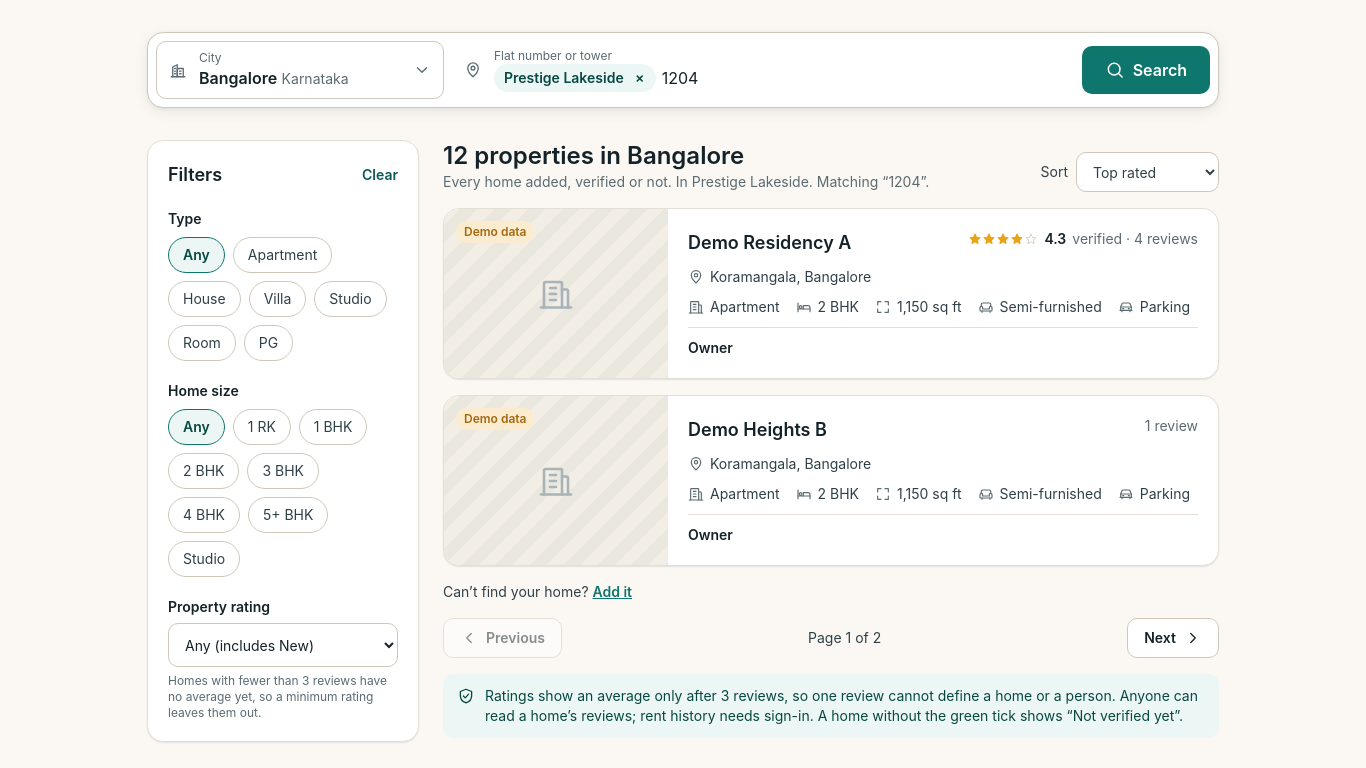
it: SearchPage › drops the picked society when the cities change
The image size is (1366, 768).
Expected: the element with test id "society-chip" is shown, 494,64 -> 656,92
Click the button "City Bangalore Karnataka": coordinates (300, 70) 156,41 -> 444,99
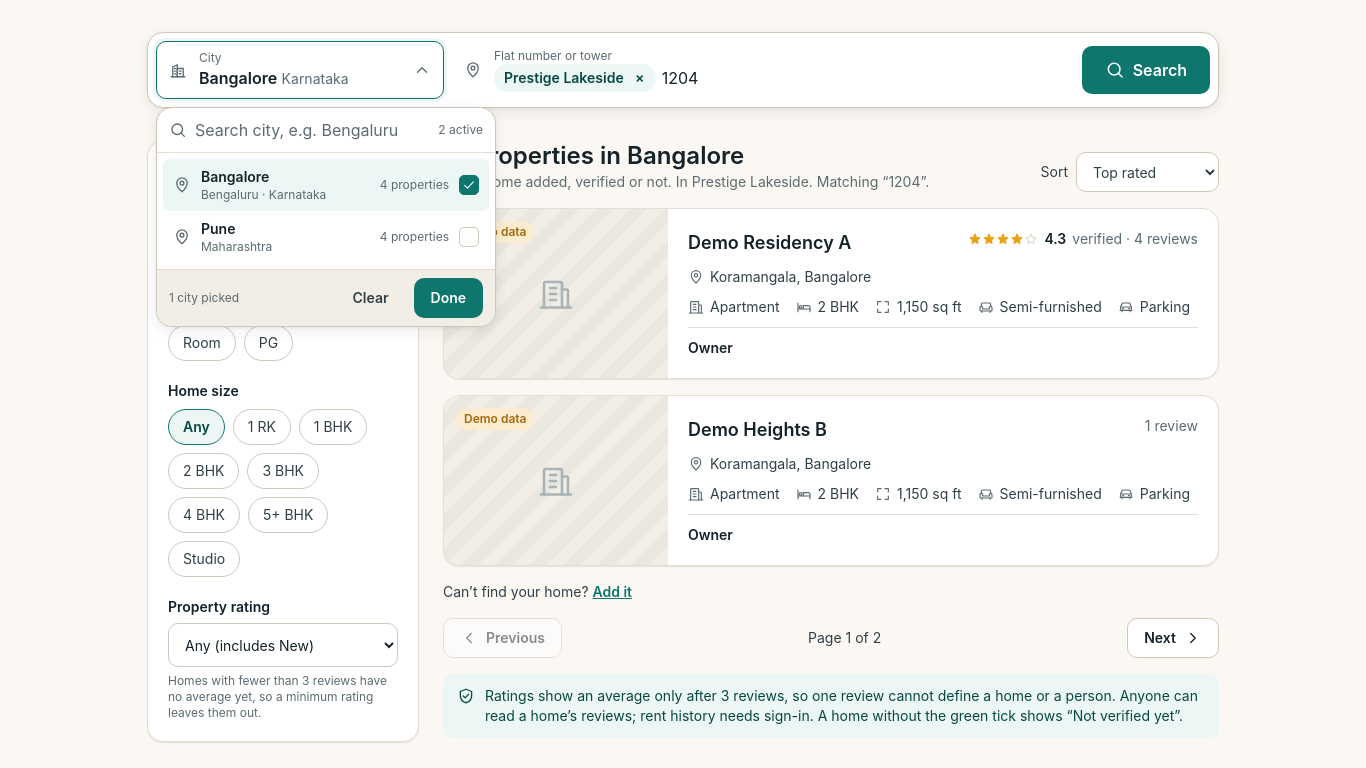
Click the option "Pune Maharashtra 4 properties": coordinates (218, 228) 163,211 -> 489,263
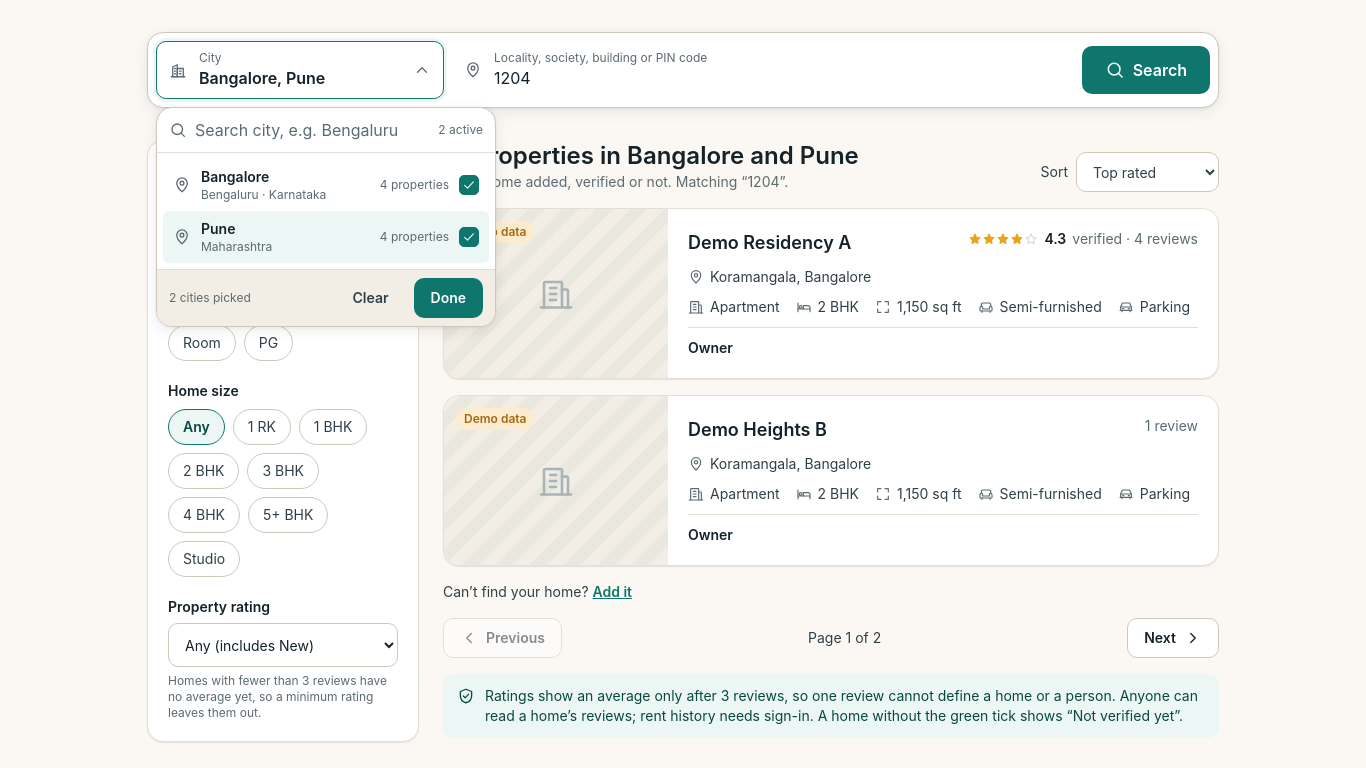
Now the element with test id "society-chip" is gone
